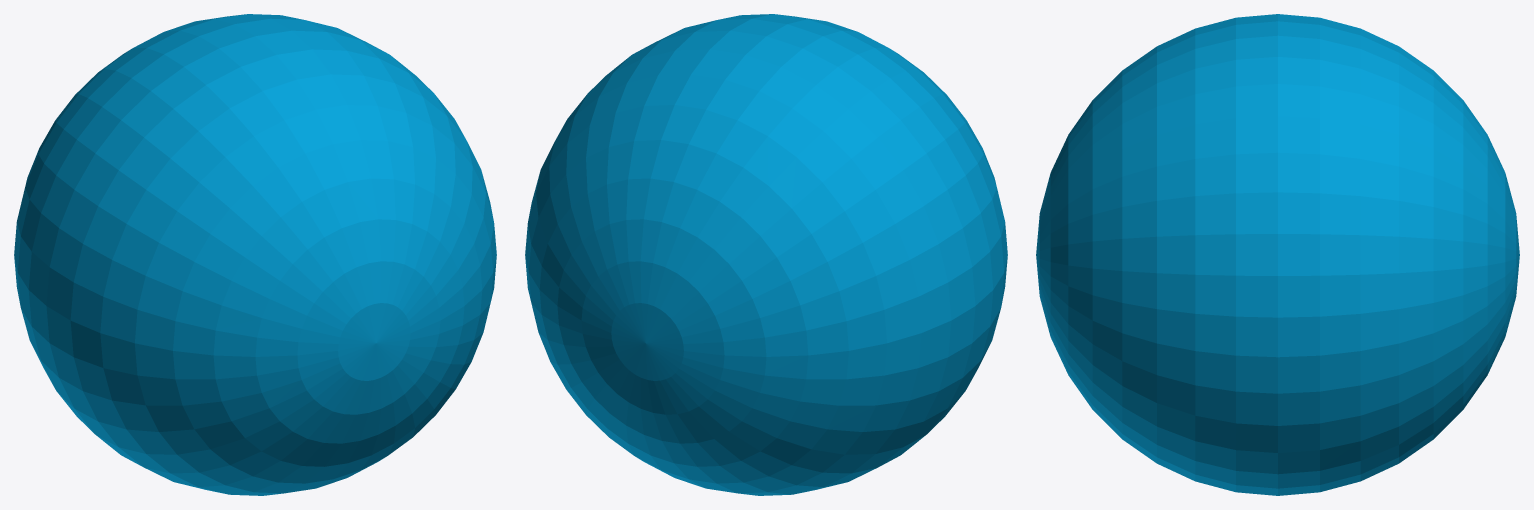
The model's file is tinker.obj.
3 views of the same model, side by side, from view 1: azimuth 30°, elevation 25°; view 2: azimuth 150°, elevation 25°; view 3: azimuth 270°, elevation 25° (orthographic).
Parts seen in each view (by area): view 1: obj_0; view 2: obj_0; view 3: obj_0.
Part boxes in pixels (bbox=[...]): obj_0: bbox=[14, 14, 496, 495]; obj_0: bbox=[525, 14, 1007, 495]; obj_0: bbox=[1036, 14, 1519, 495].
Size of the model in its own units: 20 by 20 by 20.
